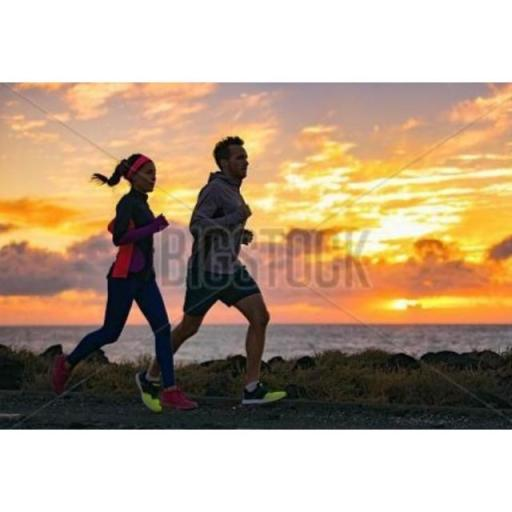Running: (54, 154, 194, 406), (169, 136, 287, 407)
